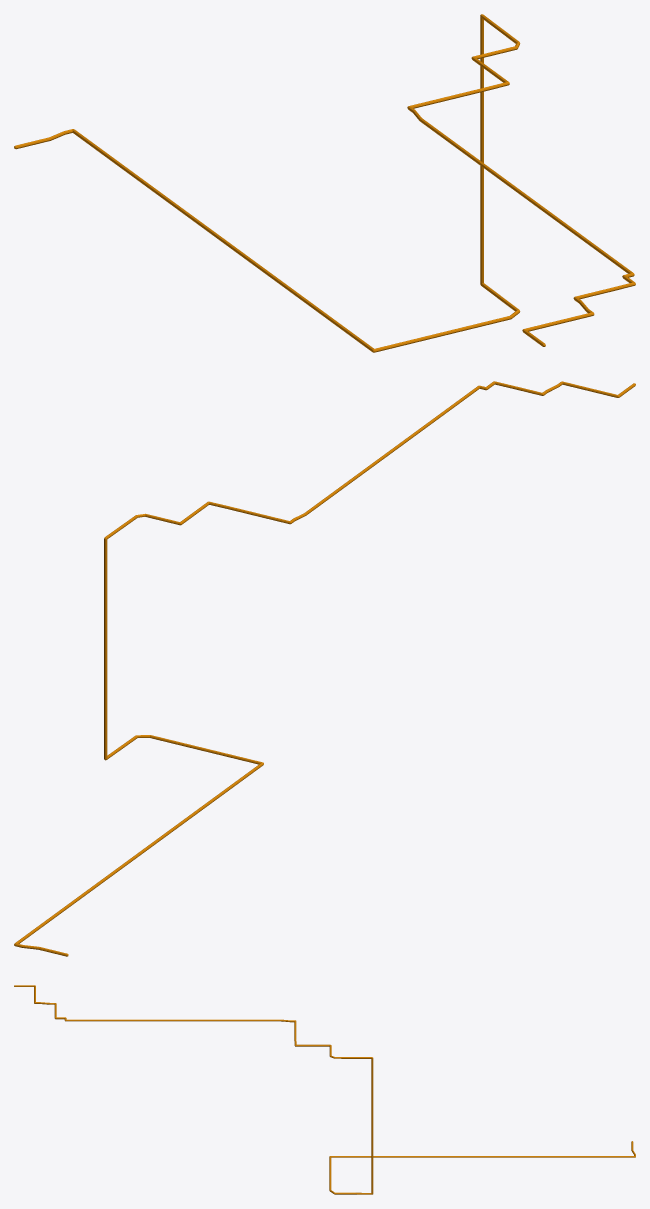
The picture shows the model from 3 angles, top to bottom: view 1: azimuth 30°, elevation 25°; view 2: azimuth 150°, elevation 25°; view 3: azimuth 270°, elevation 25°; orthographic projection. The views are drawn at different scales.
Size of the model in its own units: 1723 by 1520 by 6228.
